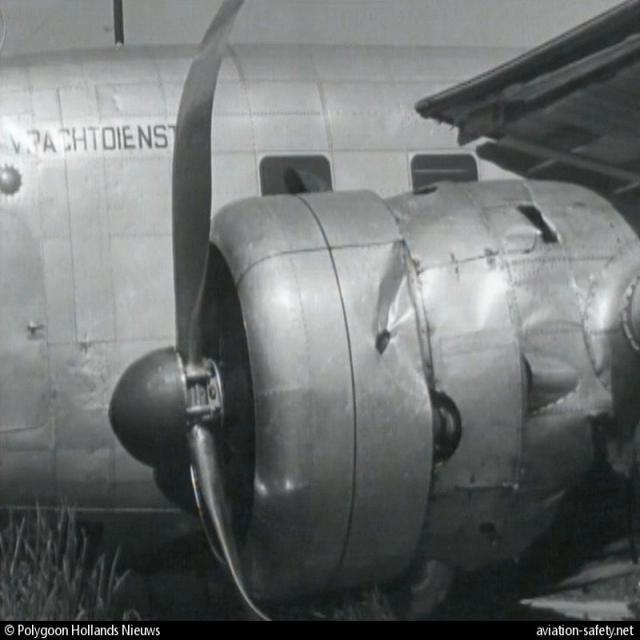dent: (371, 261, 422, 338)
